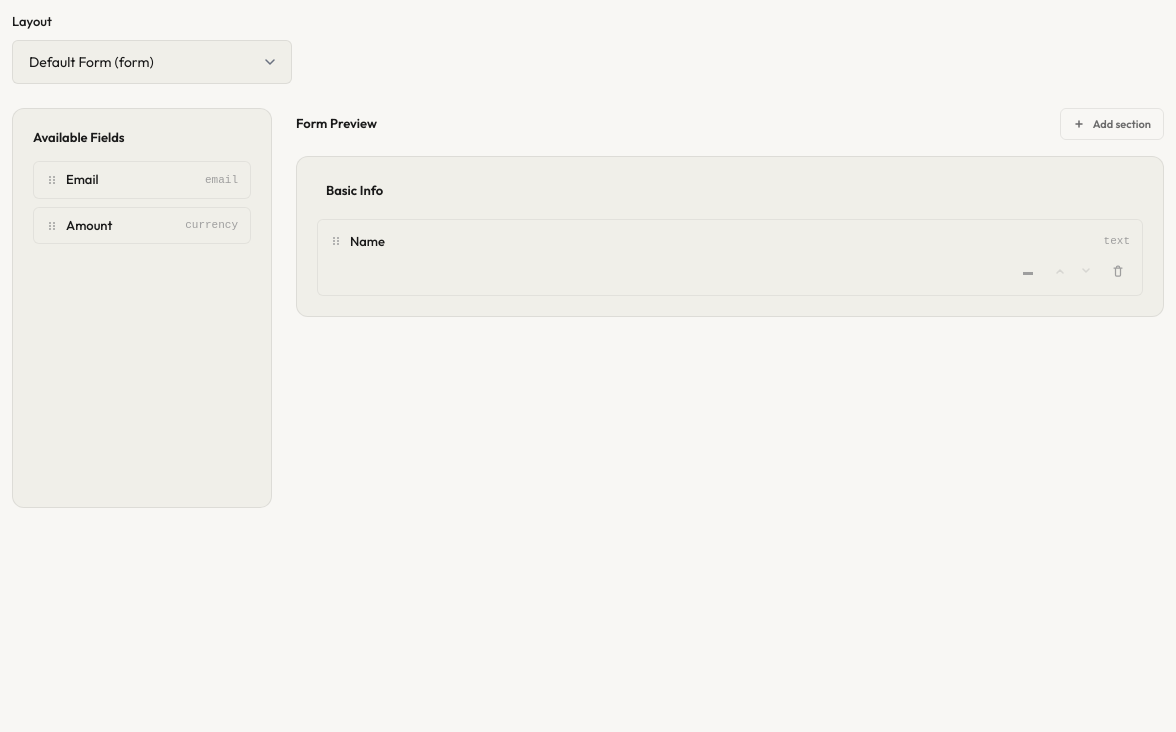
Scenario: LayoutBuilderTab › toggles field width when the toggle button is clicked
The width and height of the screenshot is (1176, 732).
Click the button named "Toggle width for Name": [1028, 271] box [1016,259,1040,283]
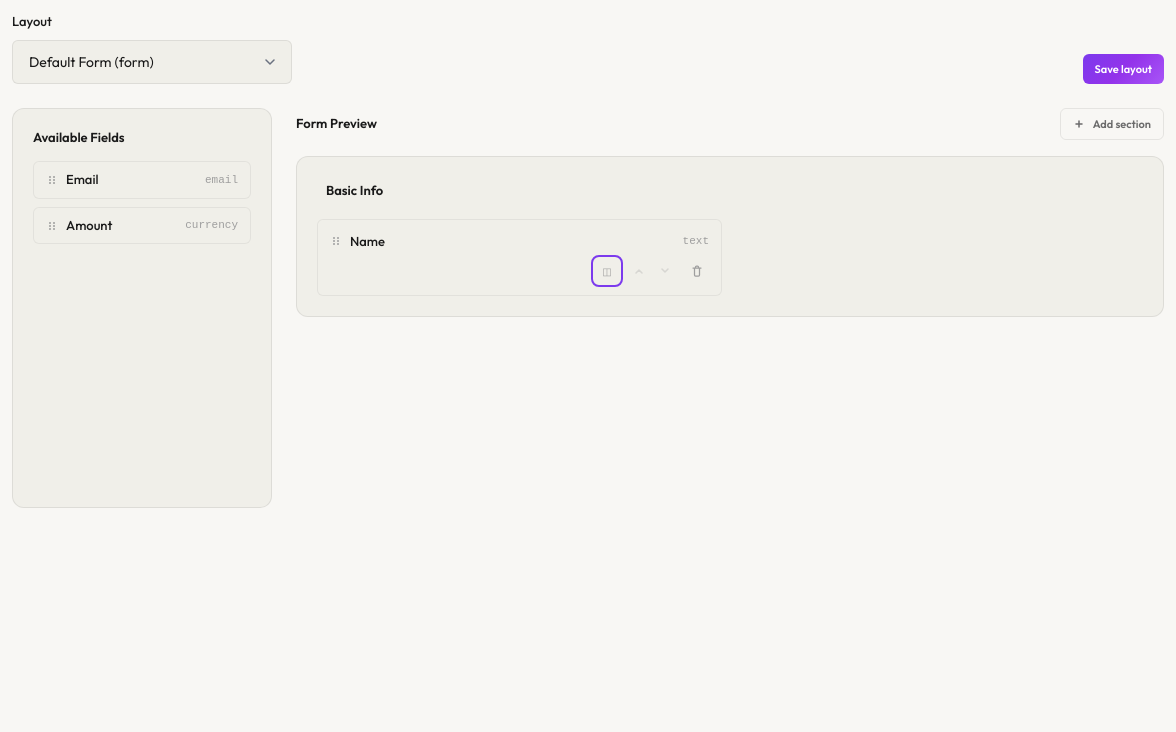
Expected: the button "Save layout" is shown, [1082,54,1164,84]
